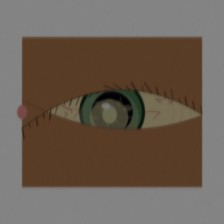corneal_ulcer: (78, 92, 140, 142)
